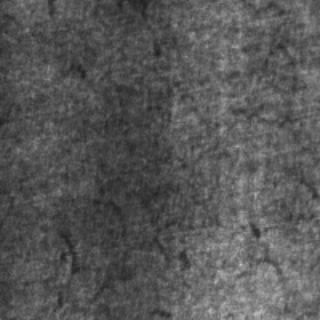crazing: (46, 192, 126, 316), (227, 39, 299, 130), (226, 215, 290, 309)
